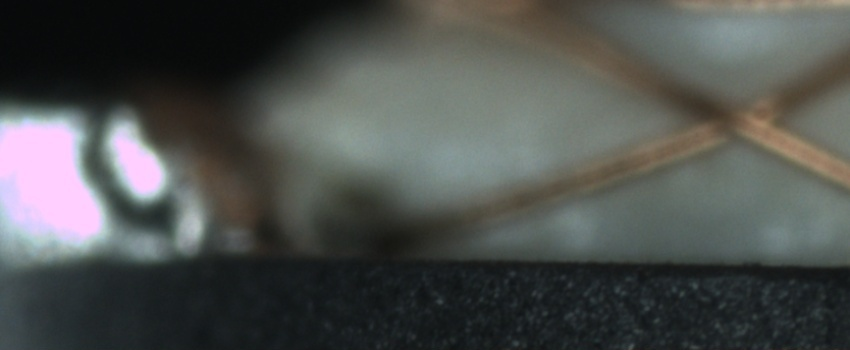CL: (663, 66, 813, 162)
